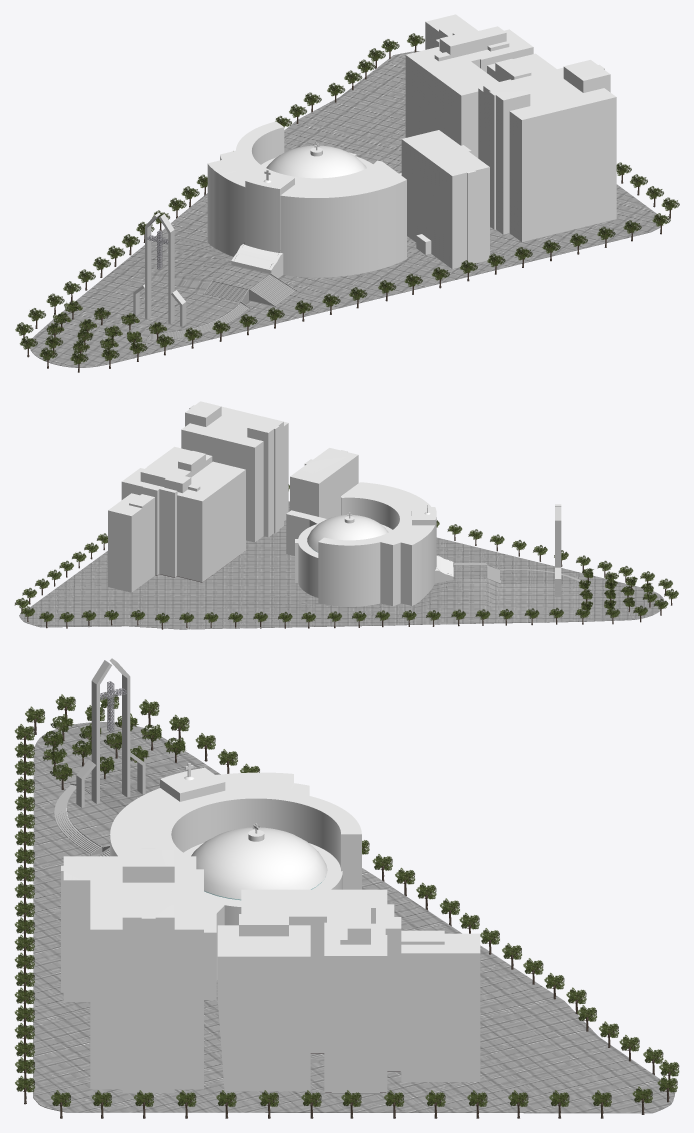
File: world37.glb
3 views of the same model, one above another, from view 1: azimuth 30°, elevation 25°; view 2: azimuth 150°, elevation 25°; view 3: azimuth 270°, elevation 25° (orthographic). The views are drawn at different scales.
Visible parts, largest first — view 1: site, cover_daeseongjeon, cover_gyoyuggwan2, Tree, cover_gyoyuggwan, cover_seongyosenteo, gujomul, cover_Vision Center, cover_yeongsanbogjisenteo; view 2: site, cover_daeseongjeon, cover_seongyosenteo, cover_gyoyuggwan2, Tree, cover_yeongsanbogjisenteo, cover_gyoyuggwan, cover_Vision Center, gujomul; view 3: site, cover_gyoyuggwan2, cover_daeseongjeon, Tree, cover_seongyosenteo, cover_Vision Center, cover_yeongsanbogjisenteo, cover_gyoyuggwan, gujomul.
Boxes of the visible parts, left/top/right/bottom form: site: left=30, top=51, right=660, bottom=367; cover_daeseongjeon: left=207, top=121, right=406, bottom=277; cover_gyoyuggwan2: left=478, top=60, right=616, bottom=241; Tree: left=15, top=33, right=679, bottom=372; cover_gyoyuggwan: left=401, top=130, right=489, bottom=268; cover_seongyosenteo: left=405, top=26, right=533, bottom=157; gujomul: left=133, top=212, right=186, bottom=331; cover_Vision Center: left=487, top=53, right=556, bottom=81; cover_yeongsanbogjisenteo: left=425, top=14, right=477, bottom=49; site: left=19, top=501, right=664, bottom=629; cover_daeseongjeon: left=286, top=482, right=453, bottom=606; cover_seongyosenteo: left=121, top=461, right=245, bottom=582; cover_gyoyuggwan2: left=181, top=401, right=288, bottom=542; Tree: left=14, top=484, right=678, bottom=629; cover_yeongsanbogjisenteo: left=108, top=493, right=154, bottom=592; cover_gyoyuggwan: left=290, top=448, right=358, bottom=518; cover_Vision Center: left=147, top=446, right=212, bottom=477; gujomul: left=555, top=504, right=561, bottom=596; site: left=33, top=722, right=675, bottom=1113; cover_gyoyuggwan2: left=90, top=848, right=203, bottom=1094; cover_daeseongjeon: left=110, top=763, right=361, bottom=999; Tree: left=14, top=692, right=679, bottom=1118; cover_seongyosenteo: left=241, top=889, right=401, bottom=1092; cover_Vision Center: left=217, top=914, right=310, bottom=1091; cover_yeongsanbogjisenteo: left=401, top=930, right=480, bottom=1081; cover_gyoyuggwan: left=61, top=856, right=196, bottom=1001; gujomul: left=76, top=658, right=145, bottom=807.
Bounding box in the file's own units: 0.0275 × 0.00598 × 0.0189.
41 materials, 4 textured.
